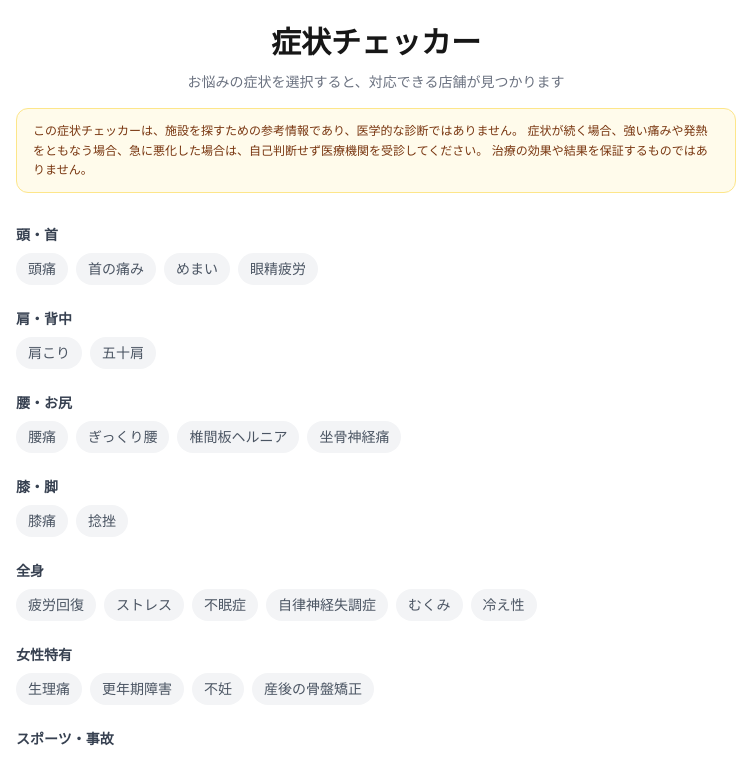
Test case: どの症状にも対応店舗が無ければ、業種の一覧へ案内する
Click the button "腰痛" at [42, 436], box [16,420,68,452]
(page scrolled)
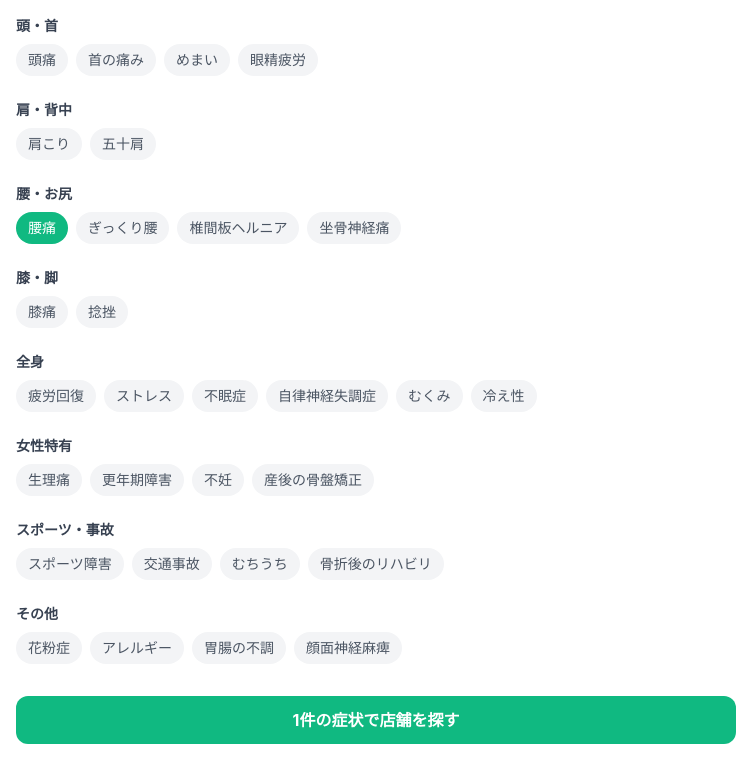
Click the button "1件の症状で店舗を探す" at [376, 720], box [16,696,736,744]
(page scrolled)
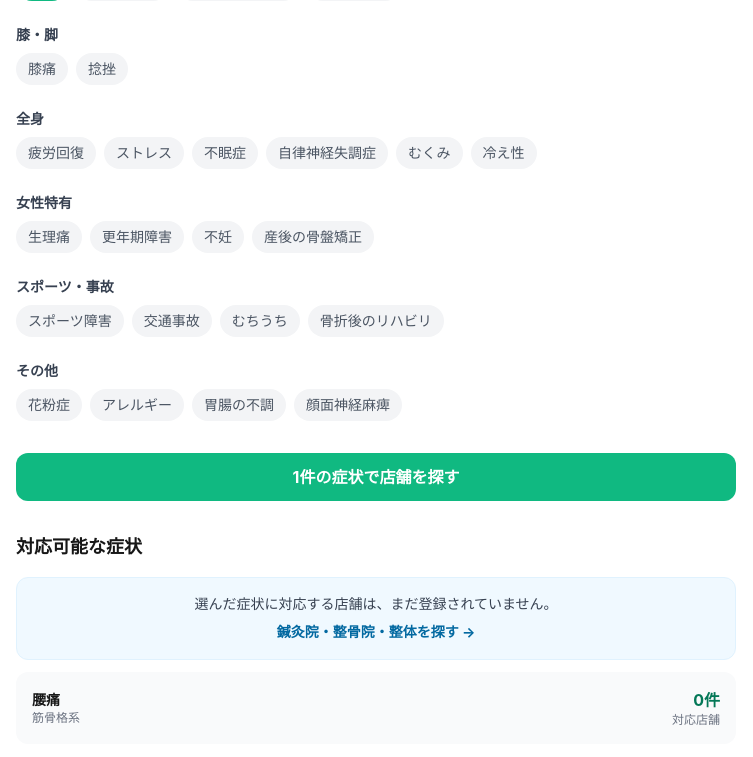
Now the heading "対応可能な症状" is shown, box [16,536,142,556]
Now the text "選んだ症状に対応する店舗は、まだ登録されていません。" is shown, box [194,594,558,612]
